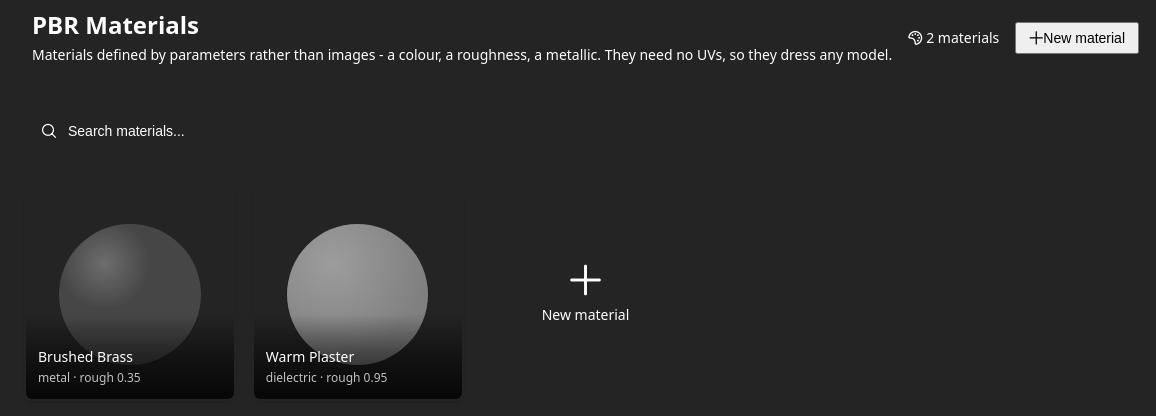
Test: MaterialList › sends the typed search to the server and renders the narrowed result
This screenshot has width=1156, height=416.
Expected: the text "Brushed Brass" is shown, 38,347 -> 133,366
Type "brass" into the field with placeholder "Search materials...". click: (164, 131)
box: 68,111 -> 261,151
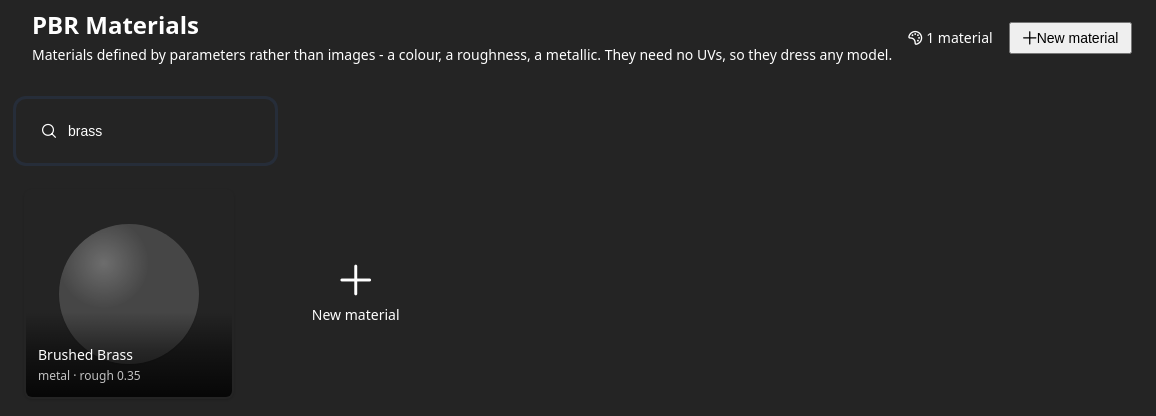
Expected: the text "Brushed Brass" is shown, 38,345 -> 133,364
Expected: the button "Warm Plaster" is gone
